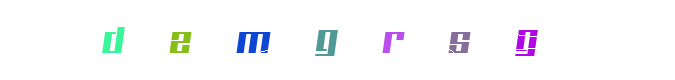2: (140, 0, 220, 80)
5: (369, 0, 449, 80)
D: (73, 0, 153, 80)
G: (298, 0, 378, 80), (486, 0, 566, 80)
M: (213, 0, 293, 80)
R: (338, 0, 418, 80)
